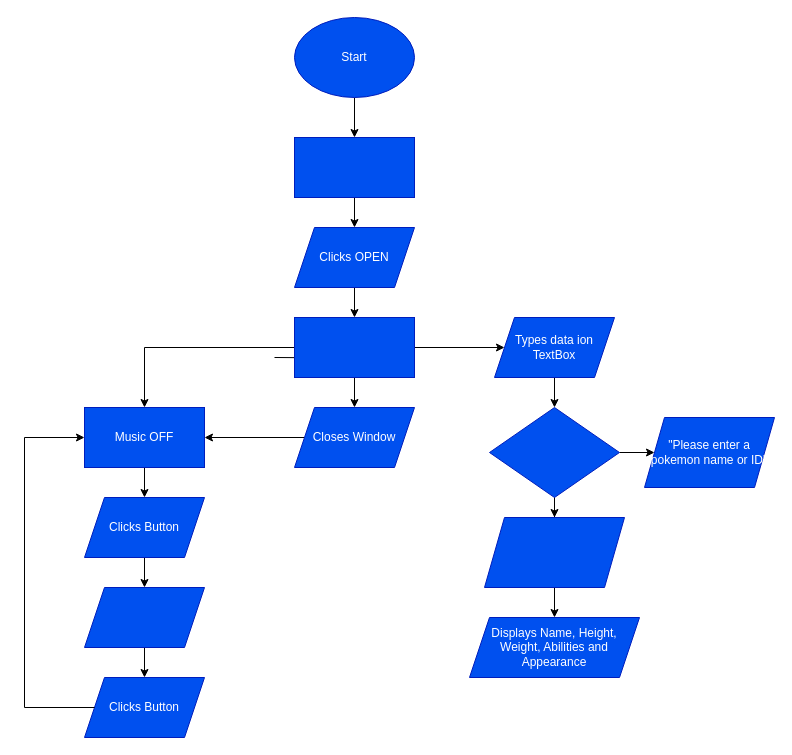
The diagram is 792 pixels wide and 755 high, and some of its shapes have lost their labels. Here are the shapes that lost their labels. From the top down, the centre of each, then its label:
At (x=354, y=167): "API Opens".
At (x=354, y=347): "Nested Window Opens".
At (x=554, y=452): "Correct/Incorrect Input".
At (x=554, y=552): "Fetches data from Pokemon API.".
At (x=144, y=617): "Music ON".
